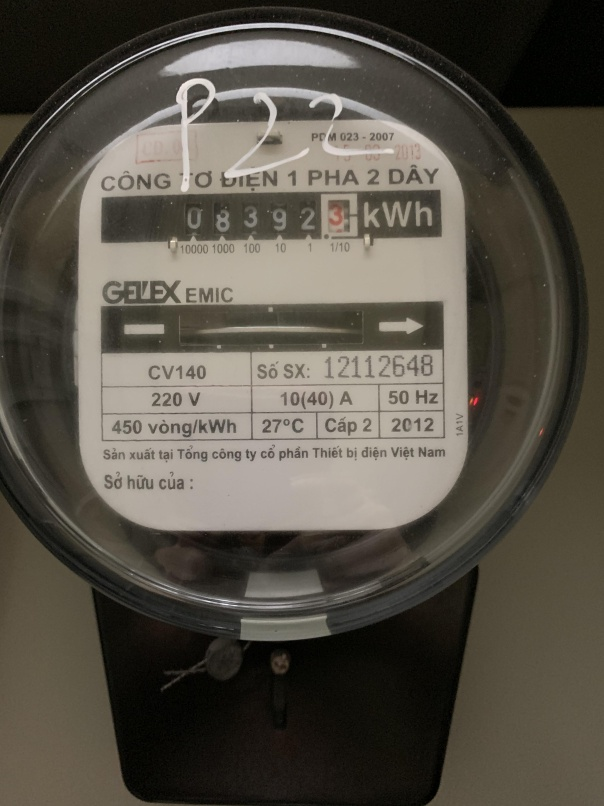counter: (101, 194, 443, 240)
electricity_meter: (5, 23, 586, 624)
